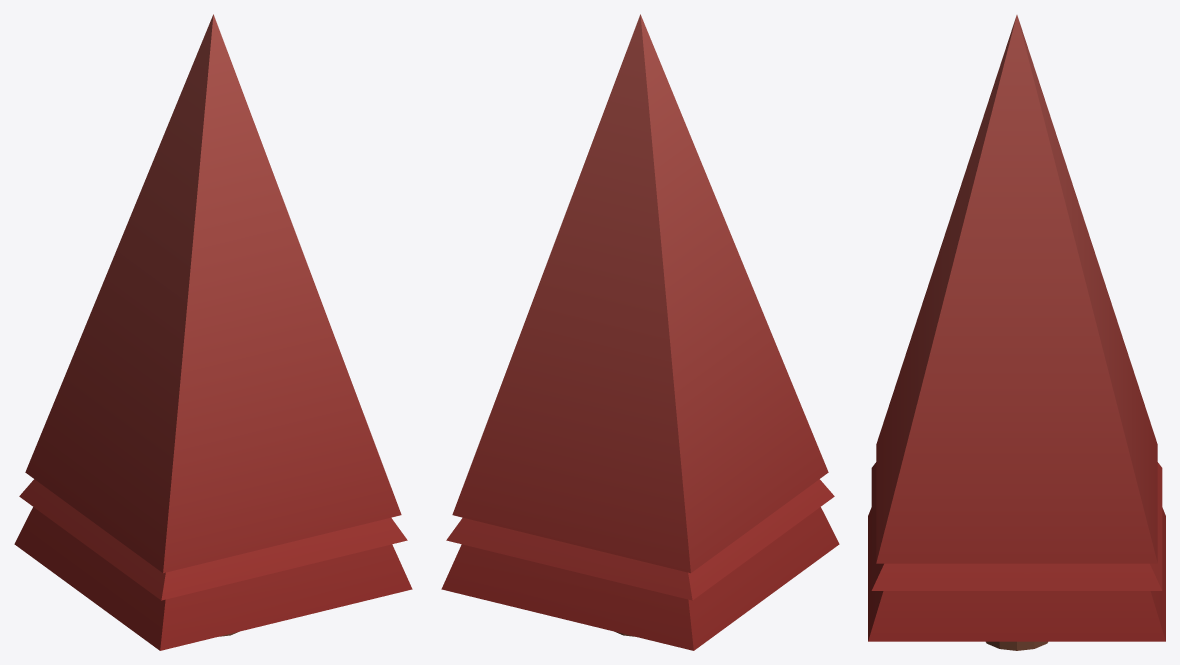
The model's file is Tree_34_gradient_red_vc.fbx.
3 views of the same model, side by side, from view 1: azimuth 30°, elevation 25°; view 2: azimuth 150°, elevation 25°; view 3: azimuth 270°, elevation 25° (orthographic). The views are drawn at different scales.
Visible parts, largest first — view 1: Tree_34_gradient_red_vc; view 2: Tree_34_gradient_red_vc; view 3: Tree_34_gradient_red_vc.
Part boxes in pixels (x1,y1,x2,y2): Tree_34_gradient_red_vc: [14, 14, 412, 650]; Tree_34_gradient_red_vc: [441, 14, 839, 650]; Tree_34_gradient_red_vc: [868, 15, 1165, 650].
Size of the model in its own units: 83.78 by 193 by 83.78.
